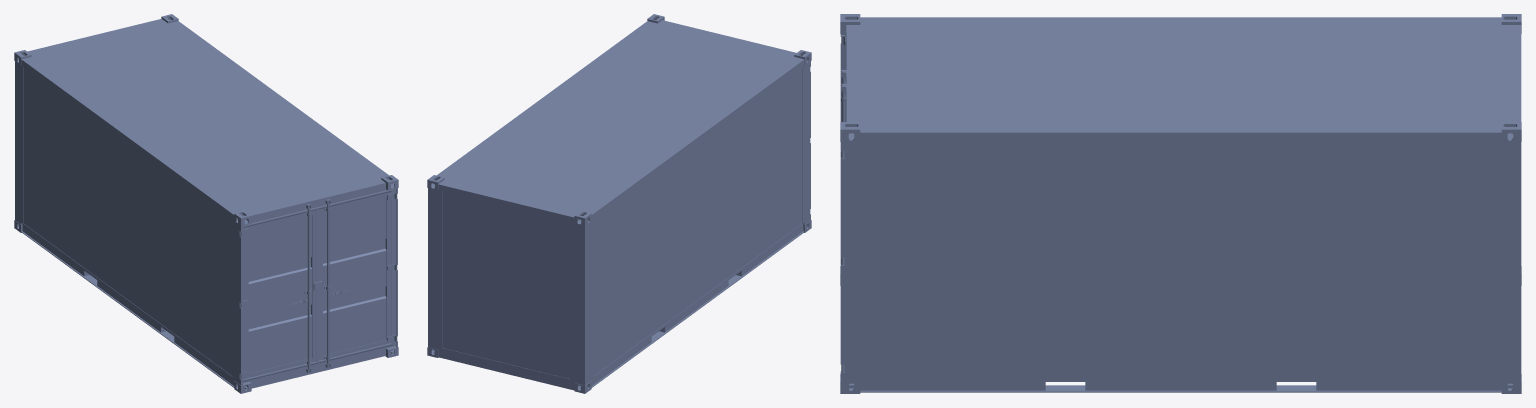
The model's file is Lagercontainer HC 2600 BC 2430.obj.
3 views of the same model, side by side, from view 1: azimuth 30°, elevation 25°; view 2: azimuth 150°, elevation 25°; view 3: azimuth 270°, elevation 25° (orthographic). The views are drawn at different scales.
Visible parts, largest first — view 1: |U6-Cont-112~0|Root|color; view 2: |U6-Cont-112~0|Root|color; view 3: |U6-Cont-112~0|Root|color.
Boxes of the visible parts, x1=… form: |U6-Cont-112~0|Root|color: x1=14, y1=14, x2=398, y2=393; |U6-Cont-112~0|Root|color: x1=427, y1=14, x2=811, y2=393; |U6-Cont-112~0|Root|color: x1=840, y1=14, x2=1521, y2=393.
Size of the model in its own units: 2.43 by 2.59 by 6.06.
